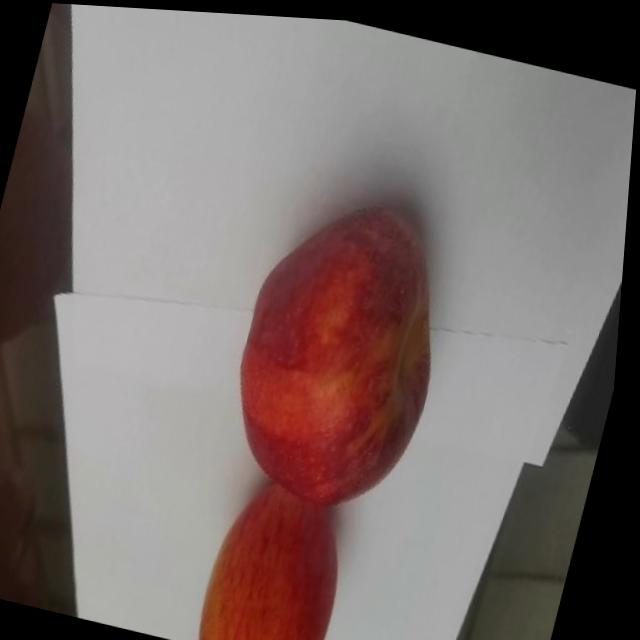Apple: (214, 173, 475, 520), (201, 467, 368, 640), (0, 266, 12, 414)
